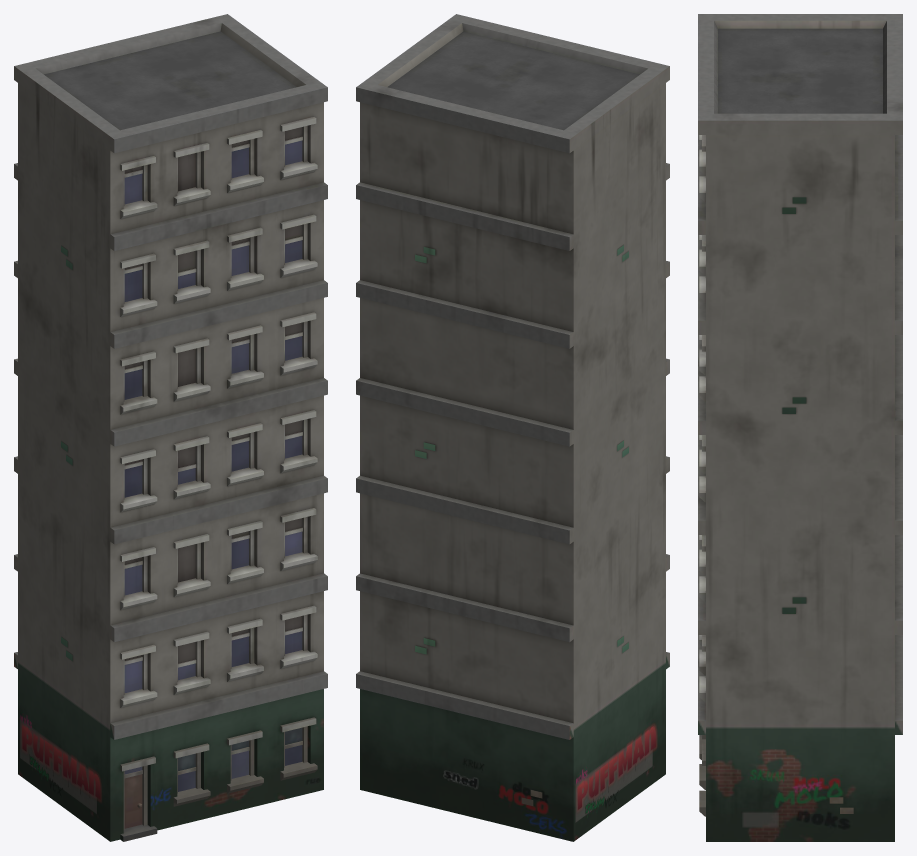
Rendered from building_D_8f.glb.
The picture shows the model from 3 angles, left to right: view 1: azimuth 30°, elevation 25°; view 2: azimuth 150°, elevation 25°; view 3: azimuth 270°, elevation 25°; orthographic projection. The views are drawn at different scales.
Parts seen in each view (by area): view 1: ground; view 2: ground; view 3: ground.
Boxes of the visible parts, box(x1,y1,x2,y2) form: ground: box(14, 14, 327, 841); ground: box(356, 14, 669, 841); ground: box(698, 14, 902, 841).
Size of the model in its own units: 1.61 by 5.05 by 1.3.
2 materials, 2 textured.
